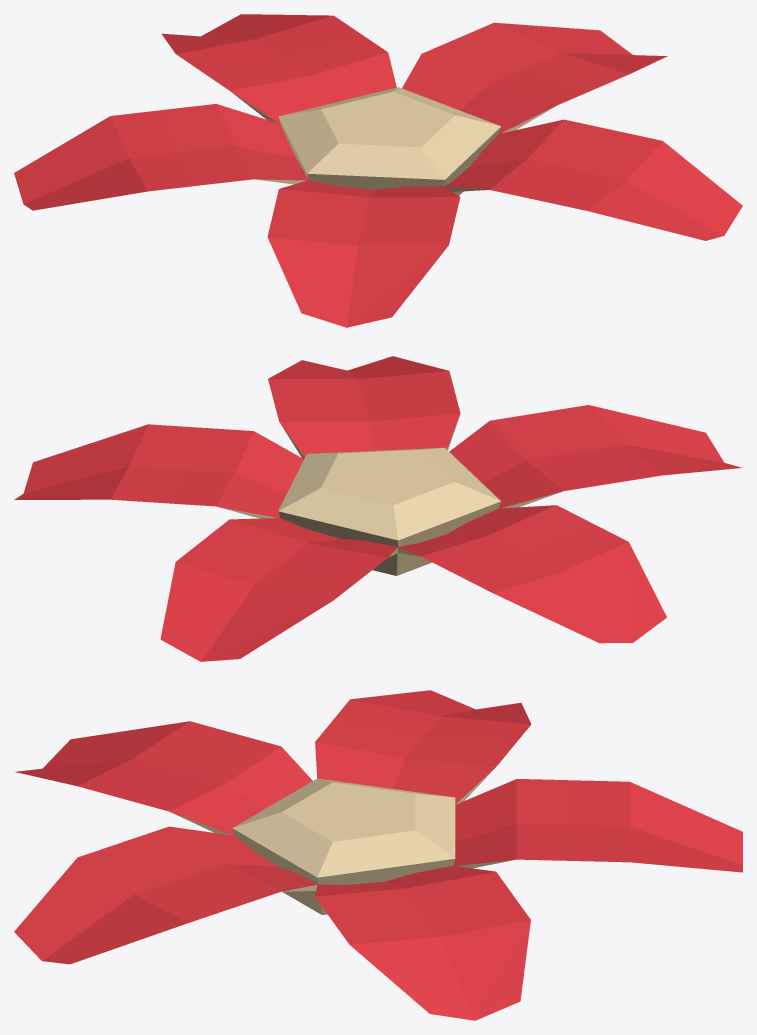
Rendered from TreePackage.fbx_Flower.fbx.
3 views of the same model, one above another, from view 1: azimuth 30°, elevation 25°; view 2: azimuth 150°, elevation 25°; view 3: azimuth 270°, elevation 25° (orthographic). The views are drawn at different scales.
Parts seen in each view (by area): view 1: Flower; view 2: Flower; view 3: Flower.
Part boxes in pixels (x1=…): Flower: x1=14, y1=14, x2=742, y2=327; Flower: x1=14, y1=356, x2=742, y2=661; Flower: x1=14, y1=690, x2=742, y2=1020.
Bounding box in the file's own units: 217 × 18.65 × 207.
